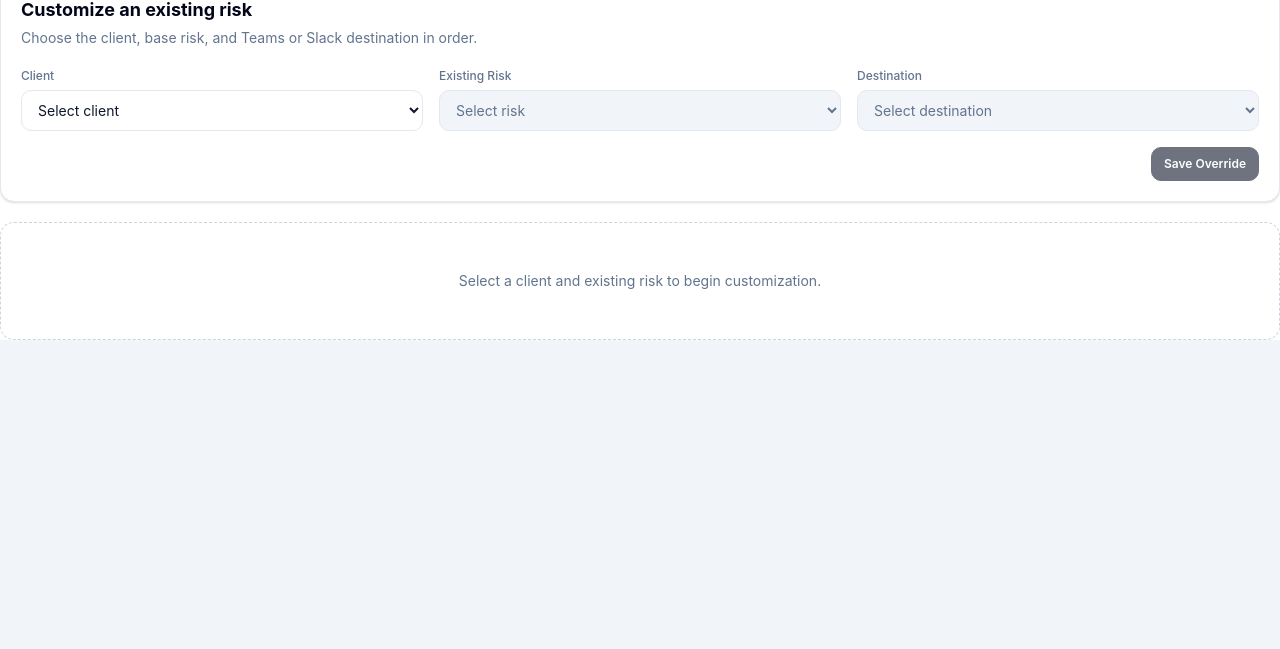
CustomizeExistingRisk › loads an existing override for update and resets it after confirmation
Select "Acme" in the dropdown labelled "Client" at (222, 110), box [21,90,423,131]
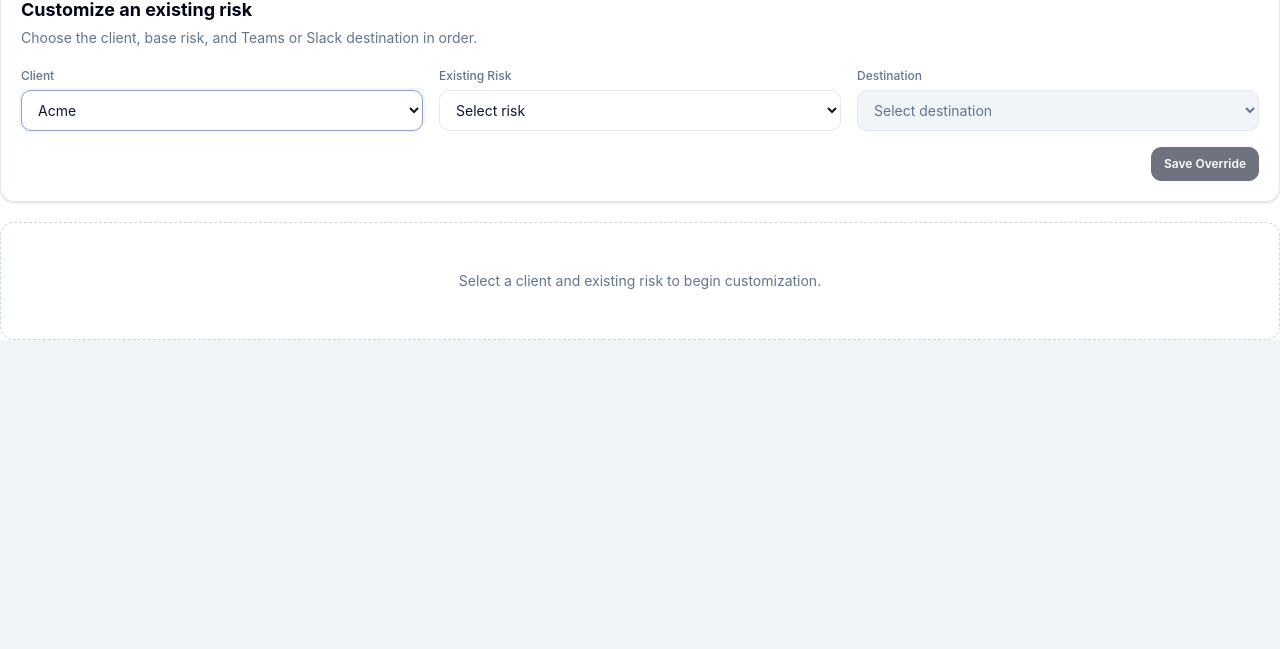
Select "Base Risk Title · RSK-1 · high" in the dropdown labelled "Existing Risk" at (640, 110), box [439,90,841,131]
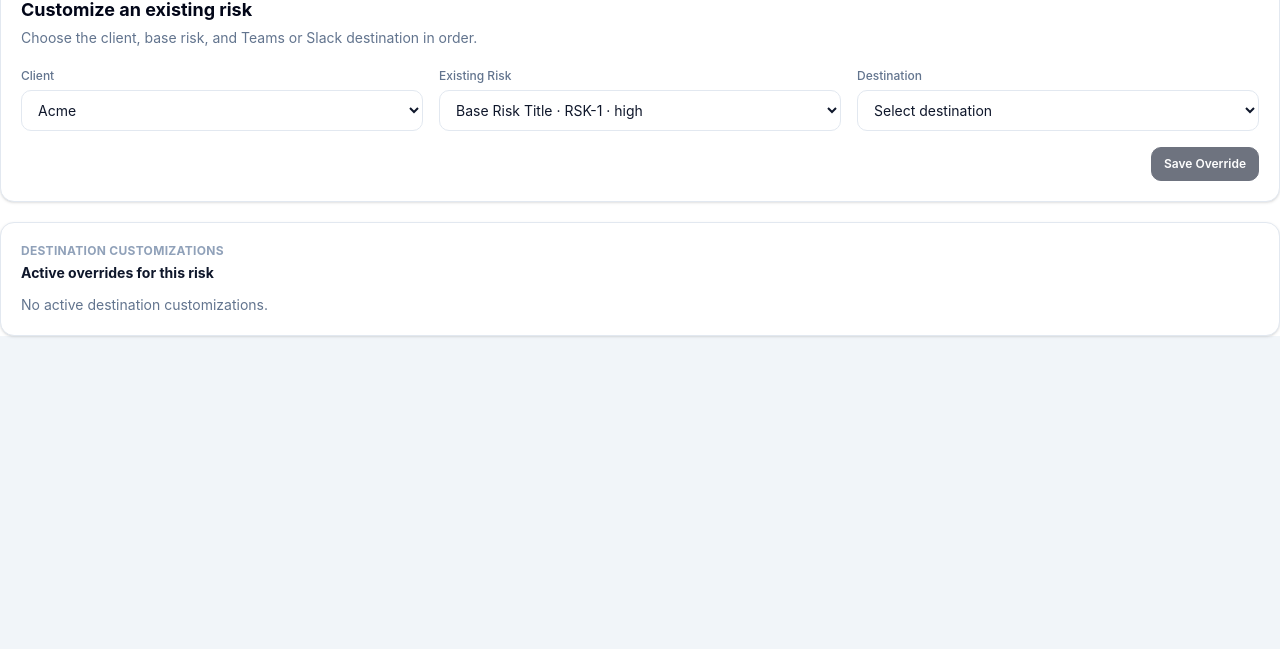
Expected: the dropdown labelled "Destination" is enabled
Select "Teams · Asha · Management · Risk Desk" in the dropdown labelled "Destination" at (1058, 110), box [857,90,1259,131]
(page scrolled)
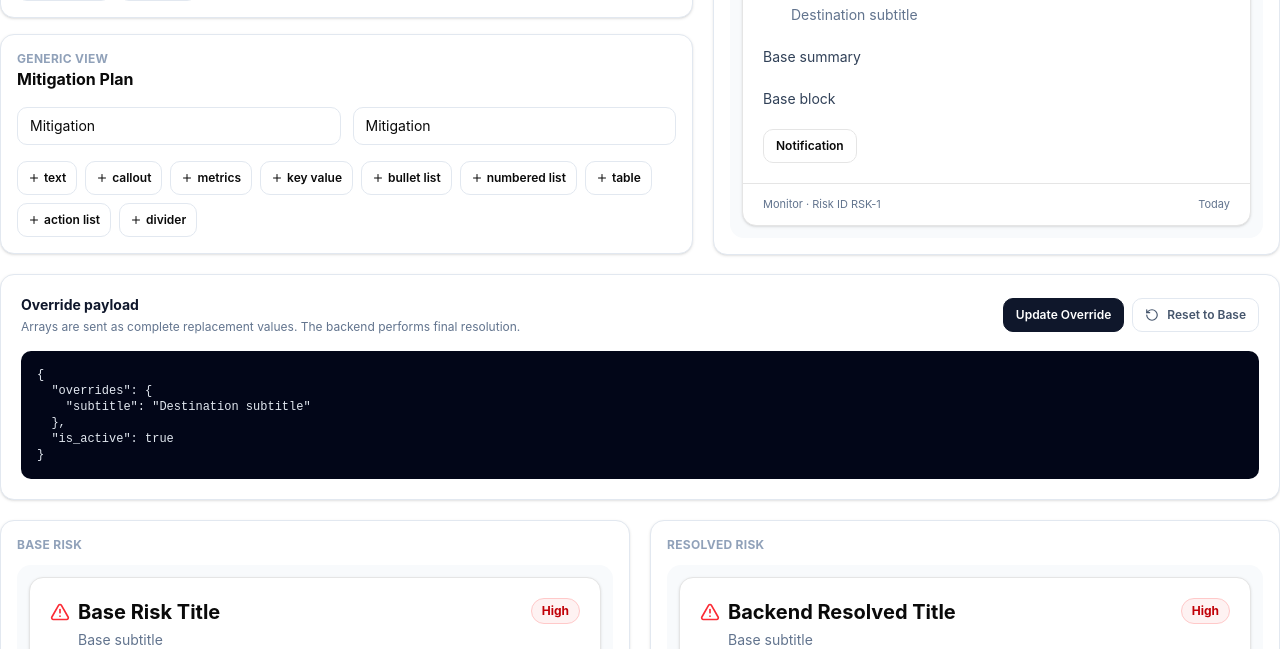
Expected: the button "Update Override" is enabled, [1003,298,1124,332]
Click the button "Reset to Base".
click(1196, 315)  # box [1132,298,1259,332]
(page scrolled)
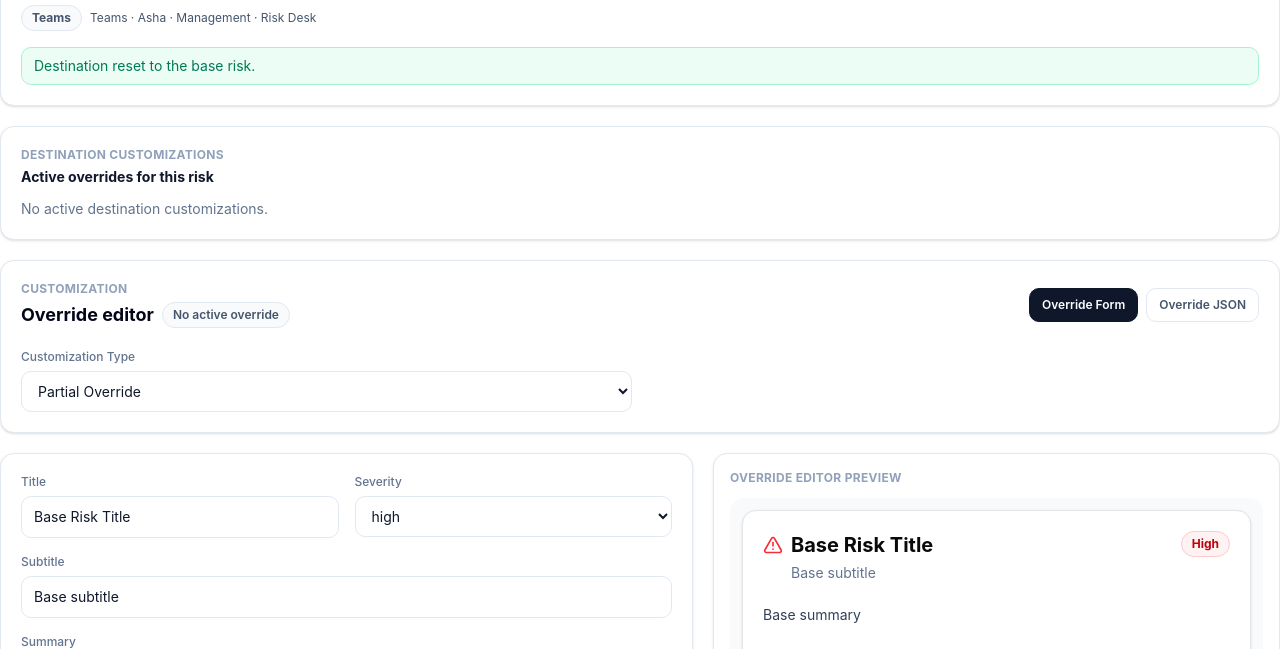
Expected: the text "No active override" is shown, [162,302,290,328]
